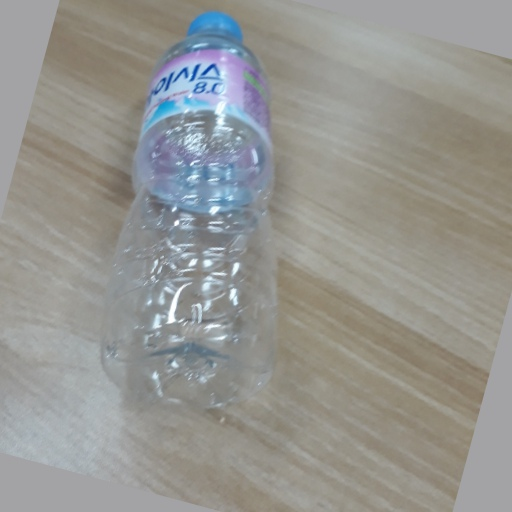Plastic_0: (109, 12, 281, 423)
